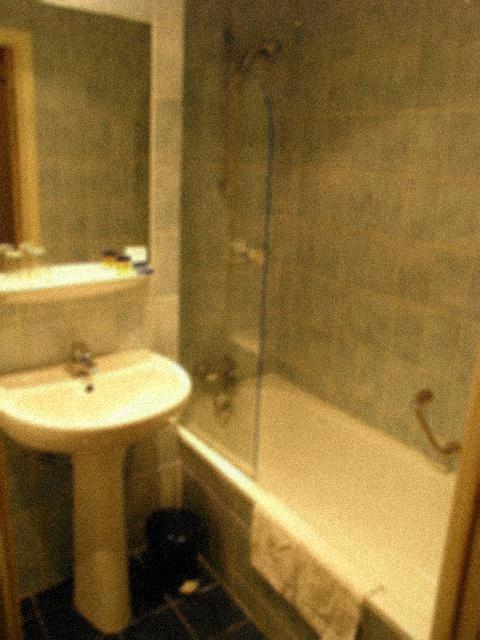Bote de Basura: (142, 507, 201, 588)
Ducha: (186, 23, 330, 476)
Lavamanos: (0, 346, 182, 639)
